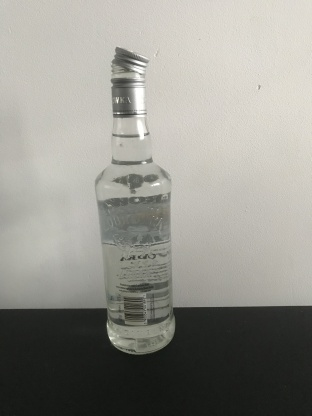nakretka: (109, 44, 150, 118)
